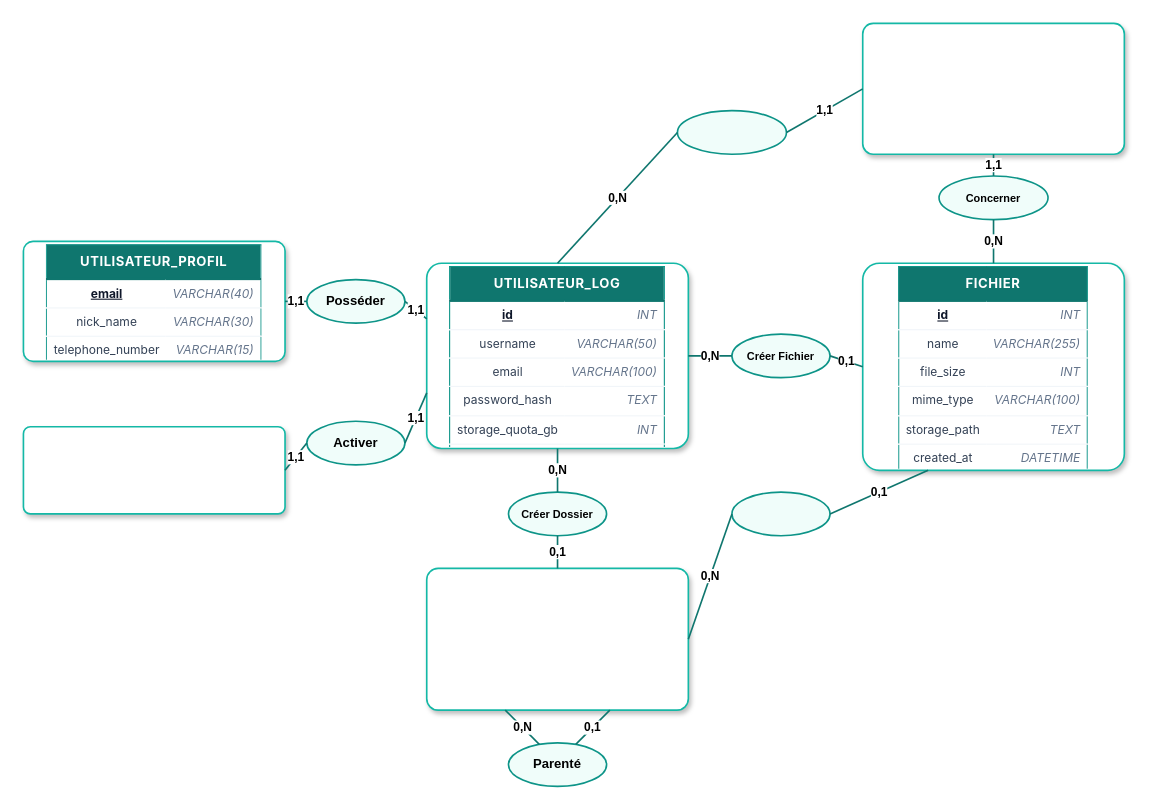
Some shapes in this 1151 by 807 pixel diagram are drawn without their labels. The shapes that lost their labels are listed below. From the top down, each one's centre as x and y in pixels, then its label:
the point at 994,90: PARTAGE id INT permission_level VARCHAR(20) expires_at DATETIME
the point at 731,132: Partager avec
the point at 155,471: CHAT id_users_chat INT
the point at 780,513: Contenir
the point at 558,640: DOSSIER id INT name VARCHAR(255) created_at DATETIME
